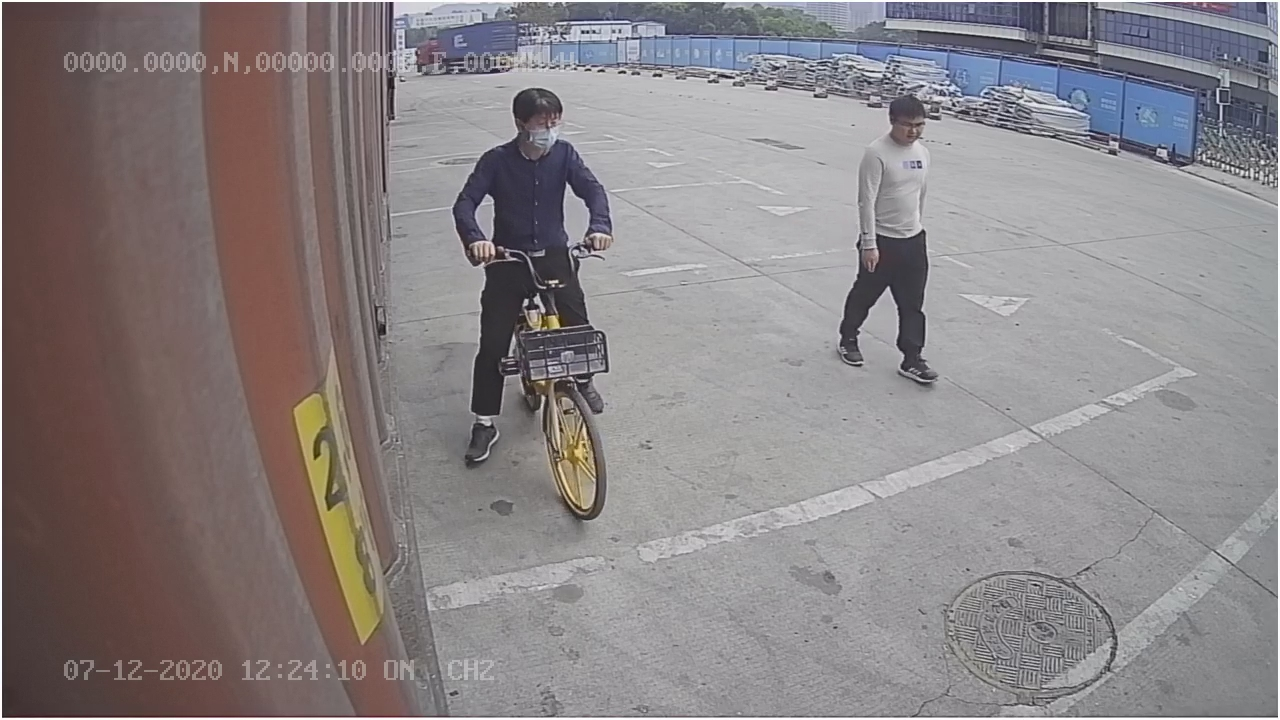person: (822, 88, 951, 395)
